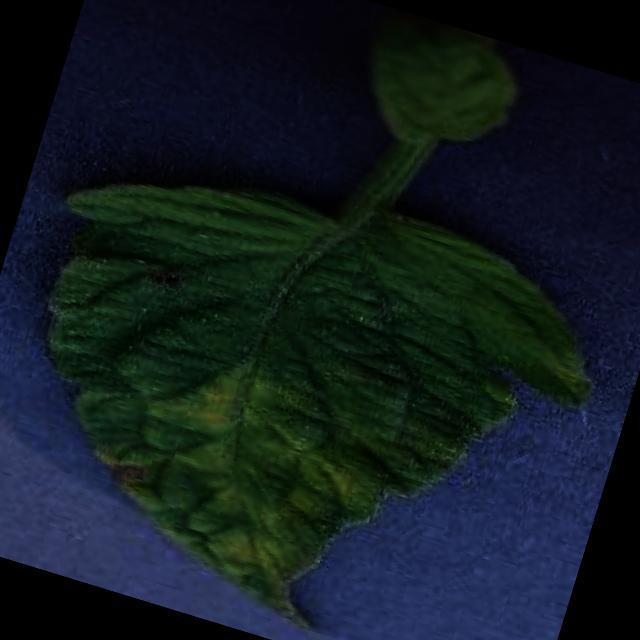Tomato mold leaf: (0, 113, 629, 640)
